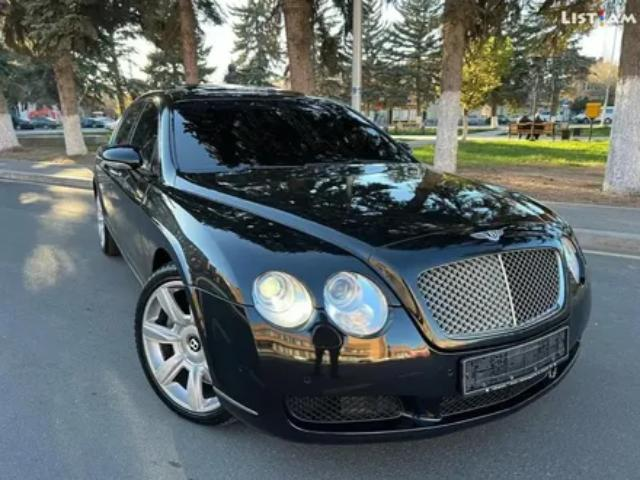bentley: (91, 87, 593, 445)
